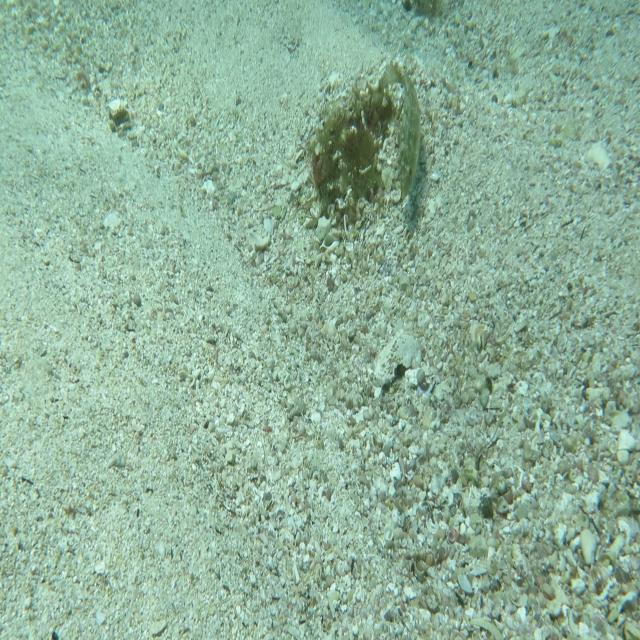SA: (377, 58, 425, 203)
nest: (311, 82, 406, 236)
vegetation: (401, 0, 447, 19), (110, 104, 129, 137)
